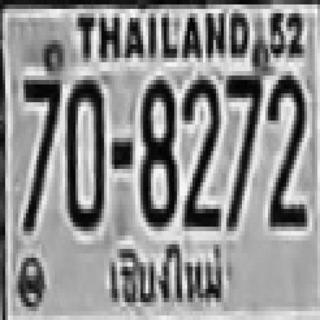N00: (66, 76, 103, 226)
N02: (266, 71, 304, 222), (182, 74, 218, 224)
N07: (21, 76, 60, 226), (224, 71, 260, 227)
N08: (138, 76, 174, 222)
P11: (104, 241, 228, 318)
